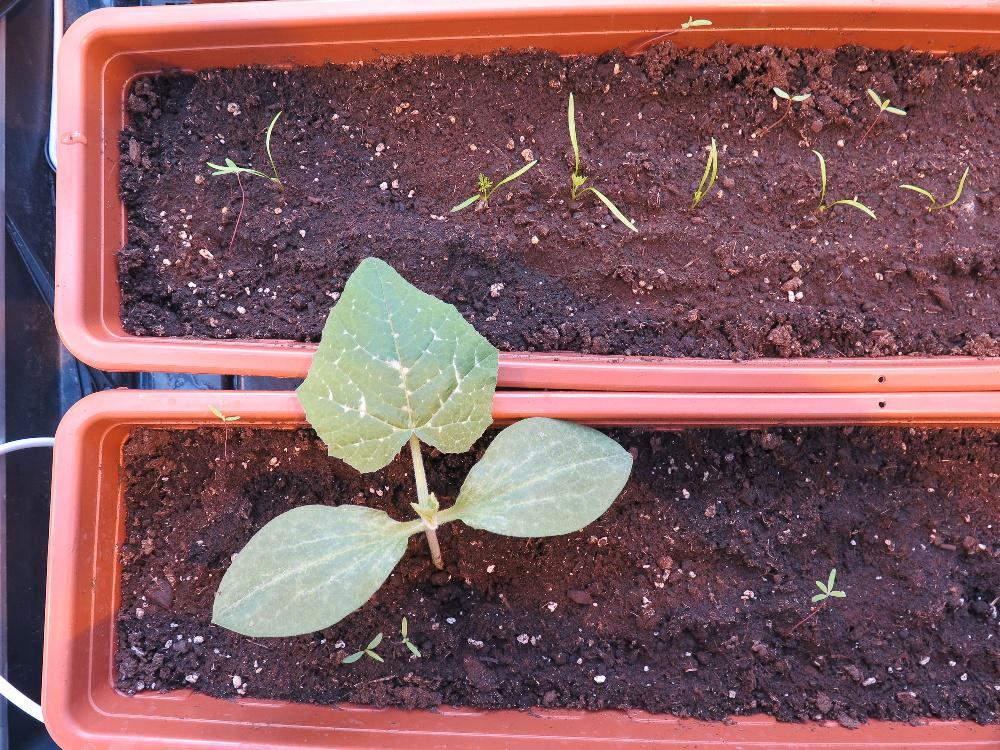crop: (565, 89, 638, 233), (447, 156, 538, 213), (809, 147, 877, 220), (895, 163, 968, 213), (687, 133, 717, 210)
weed: (339, 629, 384, 664), (808, 565, 846, 604), (864, 86, 907, 116), (399, 614, 421, 658), (770, 83, 811, 102), (206, 400, 240, 422), (676, 12, 711, 30)
